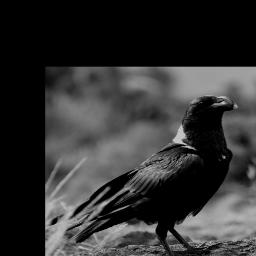Crow: (66, 92, 243, 256)
